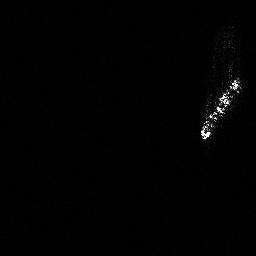ship: (191, 69, 244, 157)
